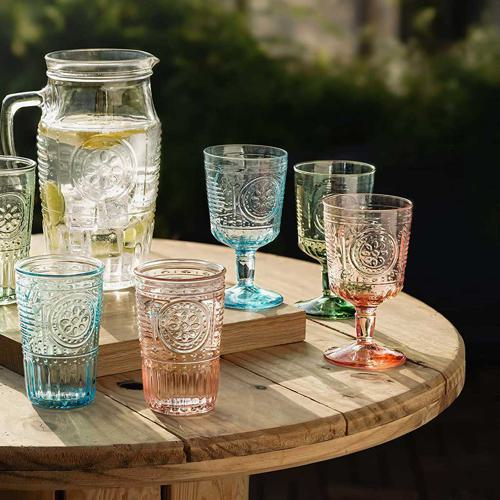copa: (318, 193, 414, 375), (202, 146, 286, 309), (293, 161, 376, 321)
vaso: (133, 261, 220, 415), (14, 257, 99, 410)
